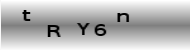6: (93, 23, 106, 37)
R: (44, 24, 61, 37)
Y: (76, 22, 90, 36)
n: (116, 12, 130, 23)
t: (21, 9, 32, 22)
